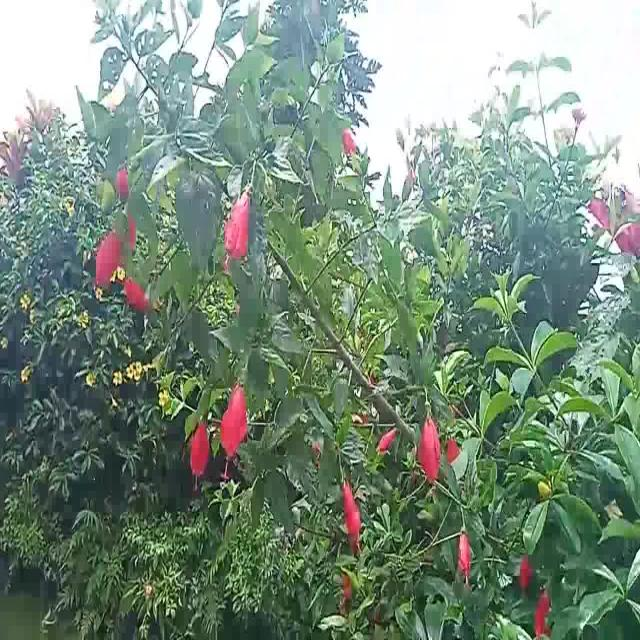Flower: (219, 380, 252, 474), (223, 185, 257, 262), (94, 217, 121, 302), (417, 404, 442, 486), (338, 475, 366, 545), (190, 415, 210, 485), (122, 274, 149, 320), (454, 521, 475, 579), (535, 586, 552, 640), (517, 553, 531, 594)
